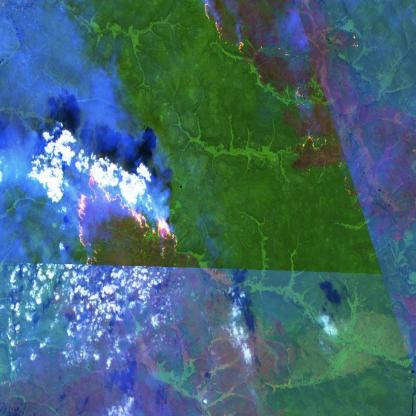fire: (73, 158, 182, 266), (202, 0, 252, 68)
